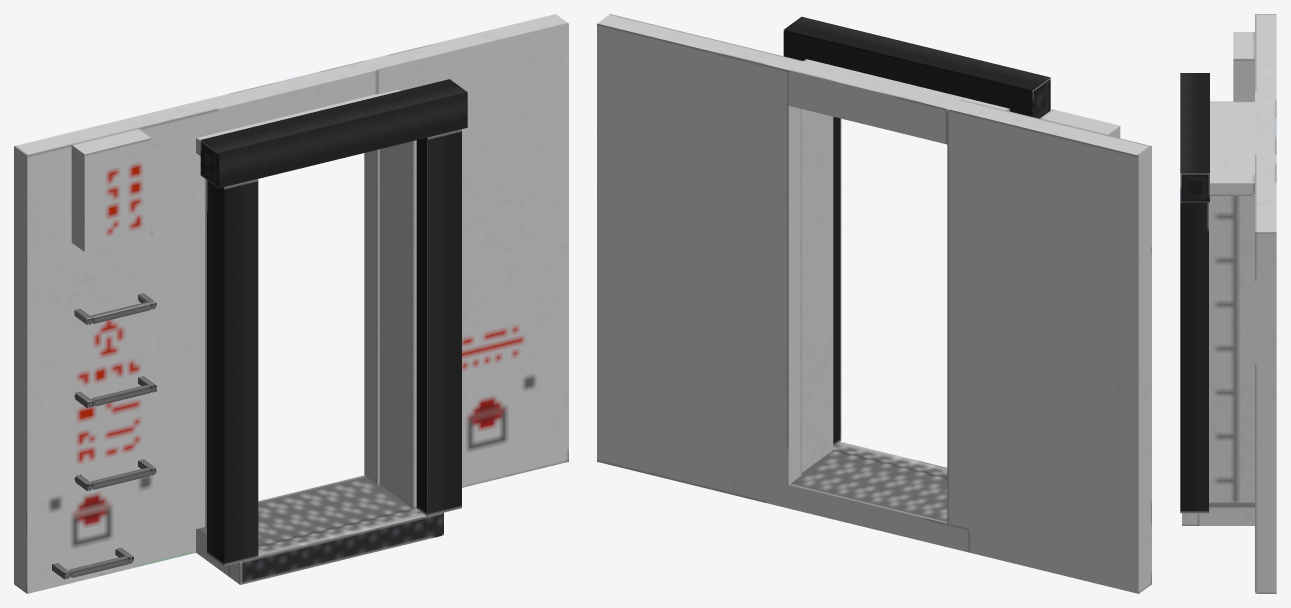
Rendered from end_face_original_25g_3.obj.
3 renders of one model, left to right at view 1: azimuth 30°, elevation 25°; view 2: azimuth 150°, elevation 25°; view 3: azimuth 270°, elevation 25°, orthographic. The views are drawn at different scales.
Visible parts, largest first — view 1: cube; view 2: cube; view 3: cube.
Part boxes in pixels (box(x1,y1,x2,y2)): cube: box(14, 14, 568, 593); cube: box(597, 14, 1151, 593); cube: box(1180, 14, 1276, 593).
Size of the model in its own units: 2.99 by 2.31 by 0.5562.
